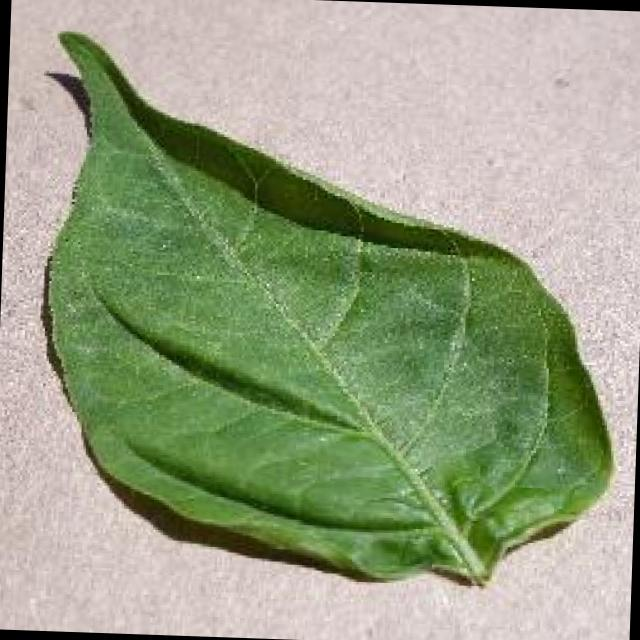Chilli_Healthy: (26, 26, 630, 594)
